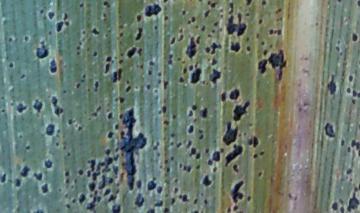tarspot: (121, 108, 146, 190), (224, 144, 243, 167), (222, 122, 238, 145), (269, 50, 287, 70), (233, 101, 249, 122), (50, 95, 63, 117), (348, 191, 360, 212), (232, 181, 243, 203), (35, 41, 49, 58), (145, 4, 162, 18), (185, 37, 196, 58), (327, 74, 337, 96), (227, 14, 237, 35), (209, 69, 221, 86), (228, 40, 241, 53), (201, 174, 214, 187), (324, 123, 336, 137), (191, 69, 202, 84), (211, 40, 222, 55), (33, 98, 43, 113), (258, 59, 267, 75), (125, 46, 137, 58), (87, 197, 96, 213), (48, 59, 58, 73), (135, 193, 145, 207), (20, 165, 31, 177), (351, 139, 360, 153), (15, 103, 27, 113), (230, 88, 240, 100), (45, 124, 55, 136), (99, 174, 107, 189), (238, 22, 246, 36), (136, 25, 143, 41), (147, 179, 156, 191), (212, 150, 221, 162), (56, 20, 64, 33), (220, 90, 227, 103), (276, 70, 283, 83), (40, 183, 49, 193), (78, 193, 86, 204), (89, 159, 96, 171), (112, 164, 119, 176), (34, 172, 43, 181), (111, 204, 120, 213), (91, 26, 100, 35), (201, 108, 209, 118), (14, 177, 22, 187), (88, 182, 96, 192), (91, 172, 101, 180), (97, 160, 105, 170), (351, 33, 359, 43), (117, 68, 123, 81), (227, 1, 233, 14), (93, 80, 99, 92), (135, 14, 143, 23), (44, 160, 52, 169), (108, 194, 117, 202), (104, 55, 113, 63), (112, 71, 118, 83), (252, 135, 258, 147), (153, 142, 162, 150), (107, 129, 114, 139), (162, 81, 169, 91), (237, 12, 243, 23), (162, 119, 170, 127), (67, 117, 74, 126), (187, 124, 194, 133), (169, 36, 176, 45), (182, 193, 189, 202), (233, 164, 240, 173), (48, 11, 54, 21), (105, 63, 110, 75), (187, 148, 197, 154), (262, 48, 268, 58), (77, 1, 85, 8), (23, 143, 31, 150), (106, 111, 113, 119), (187, 110, 194, 118), (146, 68, 153, 76), (148, 60, 156, 67), (145, 83, 152, 91), (276, 28, 283, 36), (347, 74, 354, 82), (163, 206, 171, 213), (334, 45, 341, 53), (232, 205, 240, 212), (137, 46, 142, 57), (136, 180, 142, 189), (182, 66, 188, 75), (211, 57, 217, 66), (204, 8, 210, 17), (243, 1, 252, 7), (170, 196, 176, 205), (201, 23, 206, 33), (63, 170, 70, 177), (113, 123, 120, 130), (106, 157, 113, 164), (92, 111, 99, 118), (177, 35, 184, 42), (124, 86, 131, 93), (138, 63, 145, 70), (210, 2, 217, 9), (212, 20, 219, 27), (169, 131, 176, 138), (155, 200, 162, 207), (186, 165, 193, 172), (346, 168, 353, 175), (114, 188, 121, 195), (78, 168, 84, 176), (105, 148, 111, 156), (104, 188, 110, 196), (71, 196, 77, 204), (64, 203, 72, 209), (92, 50, 98, 58), (205, 46, 211, 54), (255, 31, 261, 39), (269, 28, 275, 36), (193, 61, 199, 69), (157, 186, 163, 194), (165, 167, 171, 175), (207, 159, 213, 167), (257, 169, 263, 177), (331, 202, 337, 210), (188, 63, 193, 72), (248, 137, 253, 146), (187, 138, 192, 147), (246, 44, 251, 53), (340, 138, 345, 147), (64, 19, 70, 26), (24, 35, 30, 42), (7, 62, 14, 68), (75, 82, 81, 89), (179, 76, 185, 83), (114, 154, 120, 161), (95, 105, 102, 111), (117, 59, 124, 65), (153, 23, 159, 30), (181, 10, 187, 17), (261, 1, 267, 8), (276, 7, 282, 14), (169, 140, 175, 147), (81, 28, 87, 35), (102, 11, 108, 18), (163, 158, 169, 165), (18, 74, 26, 79), (1, 173, 5, 183), (162, 105, 167, 113), (172, 113, 177, 121), (147, 208, 155, 213), (134, 83, 139, 91), (204, 198, 209, 206), (340, 197, 345, 205), (192, 104, 198, 110), (108, 178, 114, 184), (106, 166, 112, 172), (54, 141, 60, 147), (104, 1, 110, 7), (156, 71, 162, 77), (346, 88, 352, 94), (198, 135, 204, 141), (198, 128, 204, 134), (113, 97, 119, 103), (62, 89, 68, 95), (193, 198, 199, 204), (339, 207, 345, 213), (104, 33, 110, 39), (47, 29, 52, 36), (7, 37, 14, 42), (196, 36, 201, 43), (65, 178, 70, 185), (86, 170, 91, 177), (77, 124, 82, 131), (119, 96, 124, 103), (97, 196, 102, 203), (163, 15, 170, 20), (119, 31, 124, 38), (245, 35, 250, 42), (258, 18, 263, 25), (347, 146, 352, 153), (177, 141, 182, 148), (174, 187, 179, 194), (157, 109, 162, 116), (247, 195, 252, 202), (355, 186, 360, 193), (352, 89, 356, 97), (74, 176, 78, 184), (191, 209, 199, 213), (213, 166, 217, 174), (63, 13, 68, 19), (114, 146, 119, 152), (66, 151, 71, 157), (178, 27, 183, 33), (167, 60, 173, 65), (168, 53, 173, 59), (191, 16, 196, 22), (186, 19, 191, 25), (245, 11, 250, 17), (219, 7, 224, 13), (219, 13, 224, 19), (206, 33, 212, 38), (351, 99, 357, 104), (259, 151, 265, 156), (253, 153, 258, 159), (204, 148, 210, 153), (75, 45, 81, 50), (82, 73, 87, 79), (57, 128, 62, 134), (119, 52, 125, 57), (57, 188, 63, 193), (18, 133, 23, 139), (126, 79, 130, 86), (174, 177, 178, 184), (179, 162, 183, 169), (118, 25, 125, 29), (196, 163, 200, 170), (207, 1, 212, 6), (177, 56, 182, 61), (76, 52, 81, 57), (1, 108, 6, 113), (194, 24, 199, 29), (207, 57, 212, 62), (39, 9, 45, 13), (197, 153, 200, 161), (261, 40, 265, 46), (212, 28, 216, 34), (183, 165, 187, 171), (178, 193, 182, 199), (227, 207, 231, 213), (349, 177, 353, 183), (269, 43, 273, 49), (357, 1, 360, 8), (89, 193, 93, 198), (170, 157, 175, 161), (357, 92, 360, 98), (87, 88, 91, 92), (164, 1, 169, 4), (198, 1, 204, 3), (338, 1, 342, 4)
